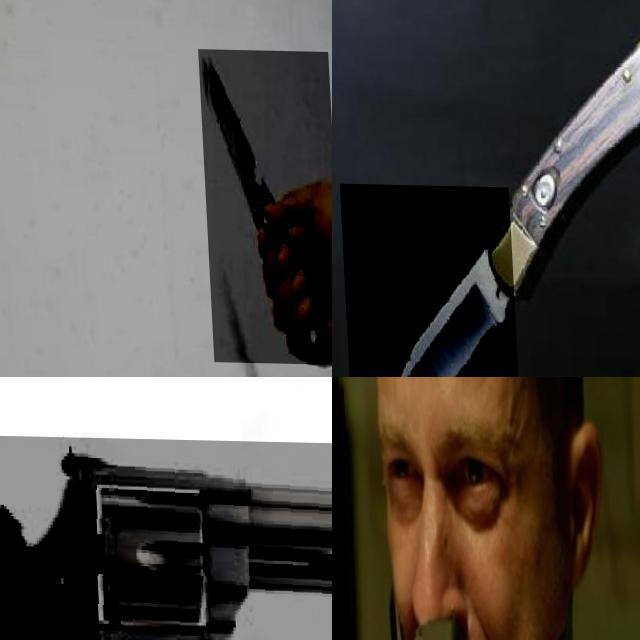-: (197, 47, 332, 362), (336, 182, 520, 377)
gun-knife-thesis - v11 Yolov5 augmented: (0, 433, 332, 640), (332, 377, 489, 640)
